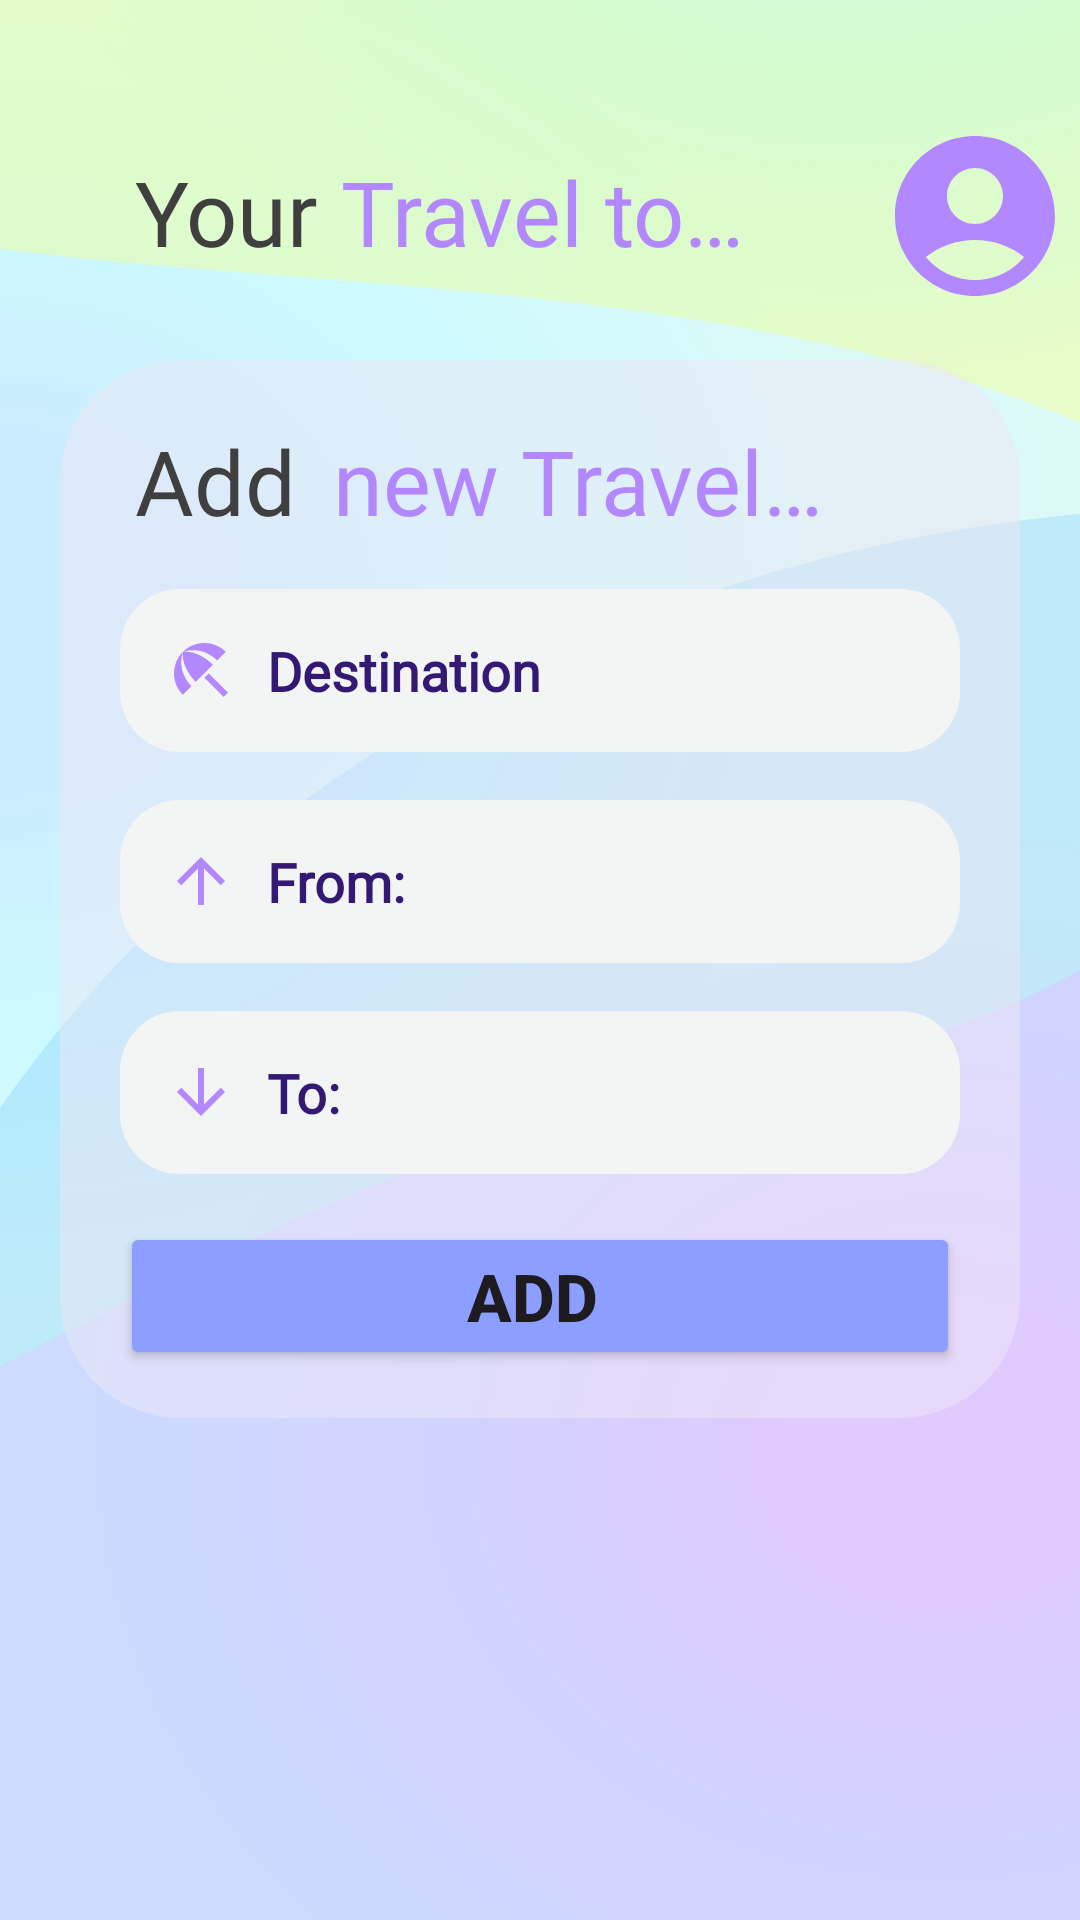

Locate icon controls on the screen. Image size 1080 × 1920, boxes as (x1, y1, x2, y2).
useraccount: (895, 136, 1055, 296)
